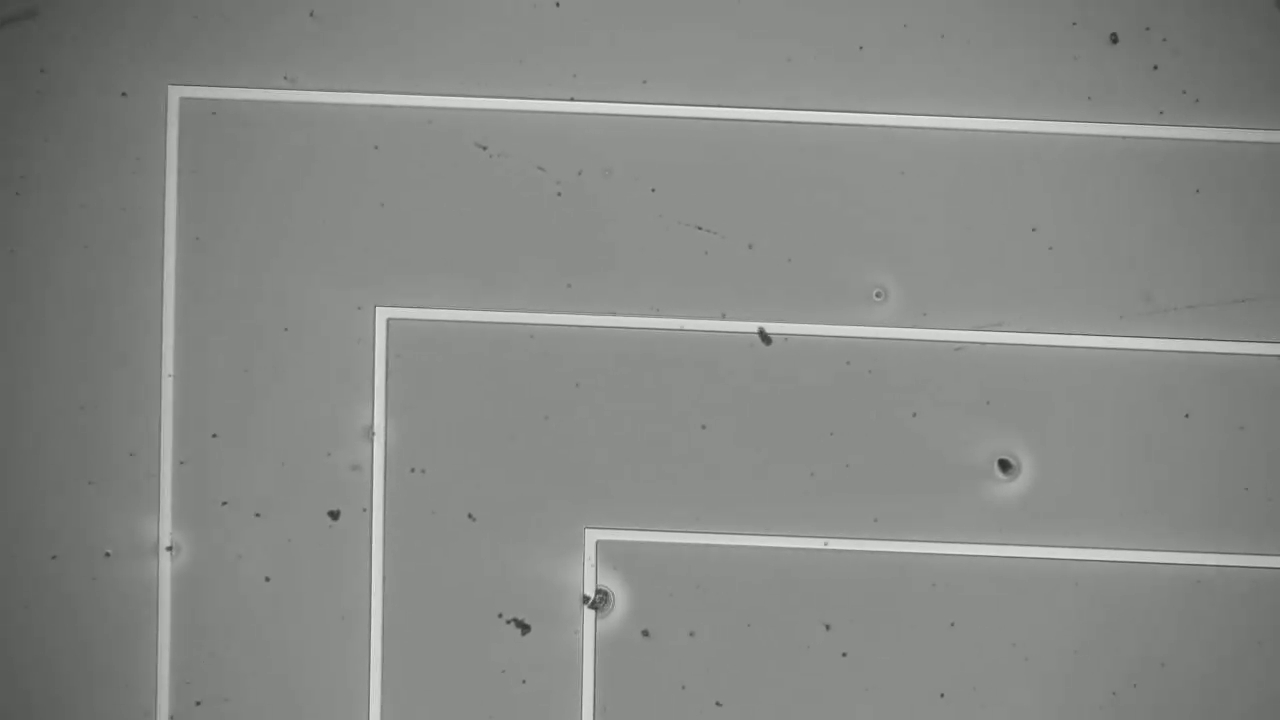stains_enbedded: (748, 317, 782, 353), (147, 534, 187, 564), (578, 582, 606, 616)
